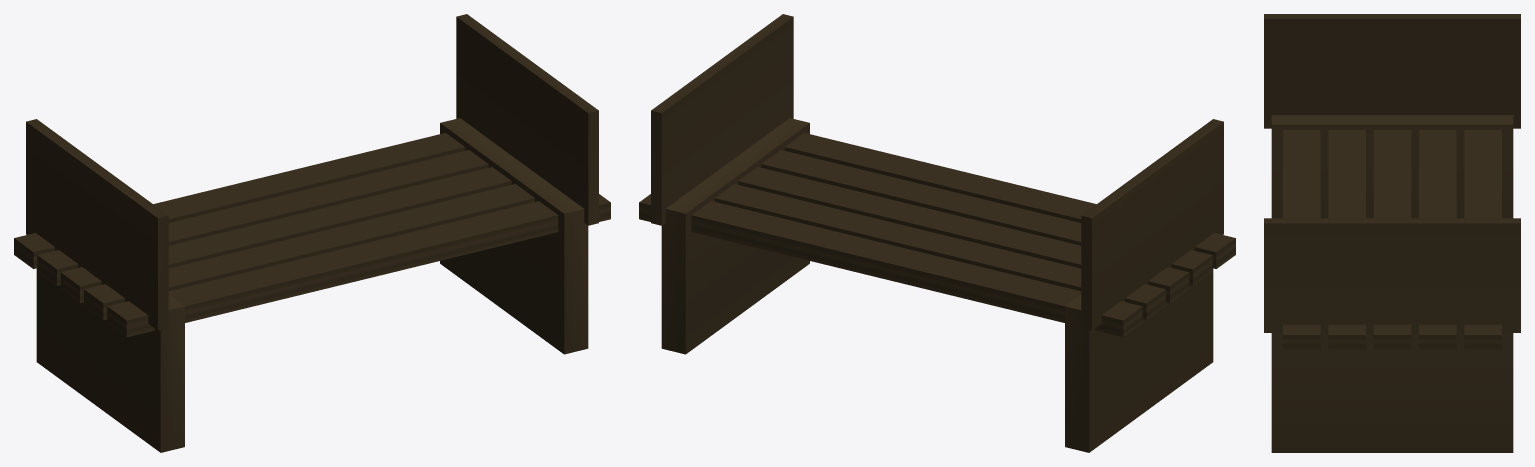
The model's file is env_timber_footbridge_a.glb.
3 renders of one model, left to right at view 1: azimuth 30°, elevation 25°; view 2: azimuth 150°, elevation 25°; view 3: azimuth 270°, elevation 25°, orthographic. The views are drawn at different scales.
Parts seen in each view (by area): view 1: env_timber_footbridge_a; view 2: env_timber_footbridge_a; view 3: env_timber_footbridge_a.
Boxes of the visible parts, x1,y1,x2,y2 form: env_timber_footbridge_a: [14, 14, 610, 452]; env_timber_footbridge_a: [639, 14, 1235, 452]; env_timber_footbridge_a: [1264, 14, 1520, 452].
Bounding box in the file's own units: 3.6 × 1.7 × 1.7.
Materials: 1 (1 with a texture image).
